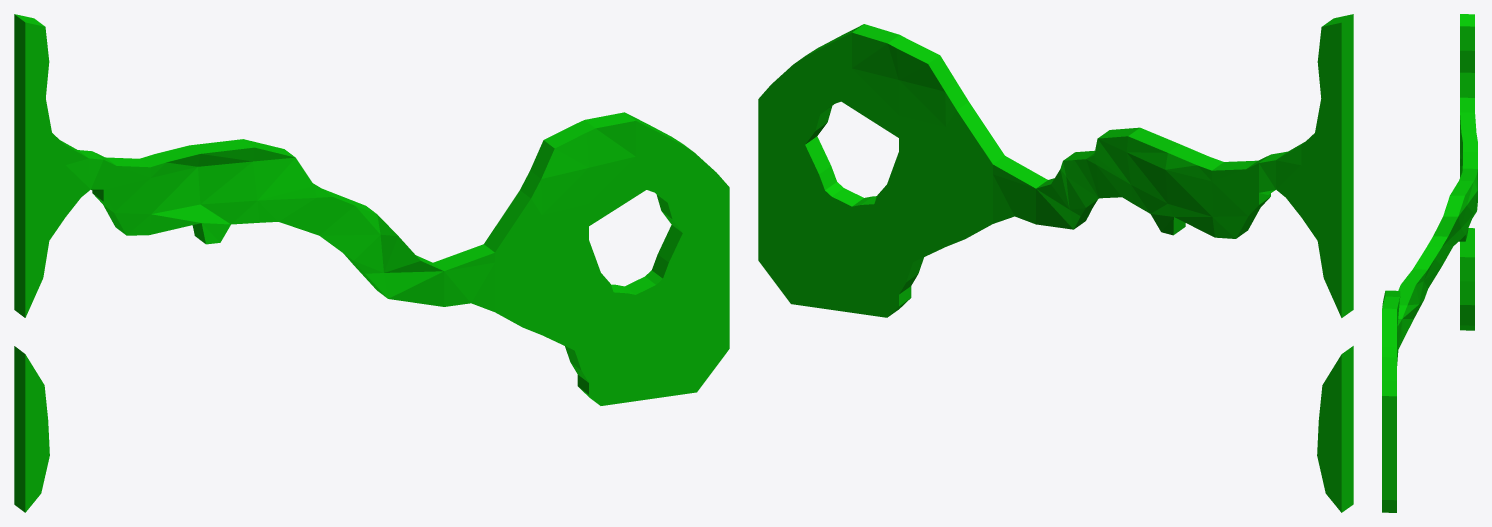
Rendered from woods_0003_death_0000.obj.
3 renders of one model, left to right at view 1: azimuth 30°, elevation 25°; view 2: azimuth 150°, elevation 25°; view 3: azimuth 270°, elevation 25°, orthographic. The views are drawn at different scales.
Visible parts, largest first — view 1: COLLIDE.003_Cube.018; view 2: COLLIDE.003_Cube.018; view 3: COLLIDE.003_Cube.018.
Boxes of the visible parts, left/top/right/bottom form: COLLIDE.003_Cube.018: left=14, top=14, right=729, bottom=512; COLLIDE.003_Cube.018: left=758, top=14, right=1353, bottom=512; COLLIDE.003_Cube.018: left=1382, top=14, right=1477, bottom=512.
Bounding box in the file's own units: 1667 × 1213 × 333.
